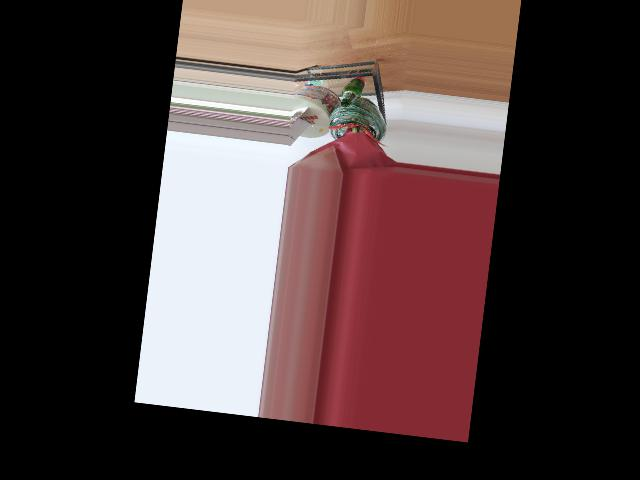beer: (340, 76, 365, 108)
